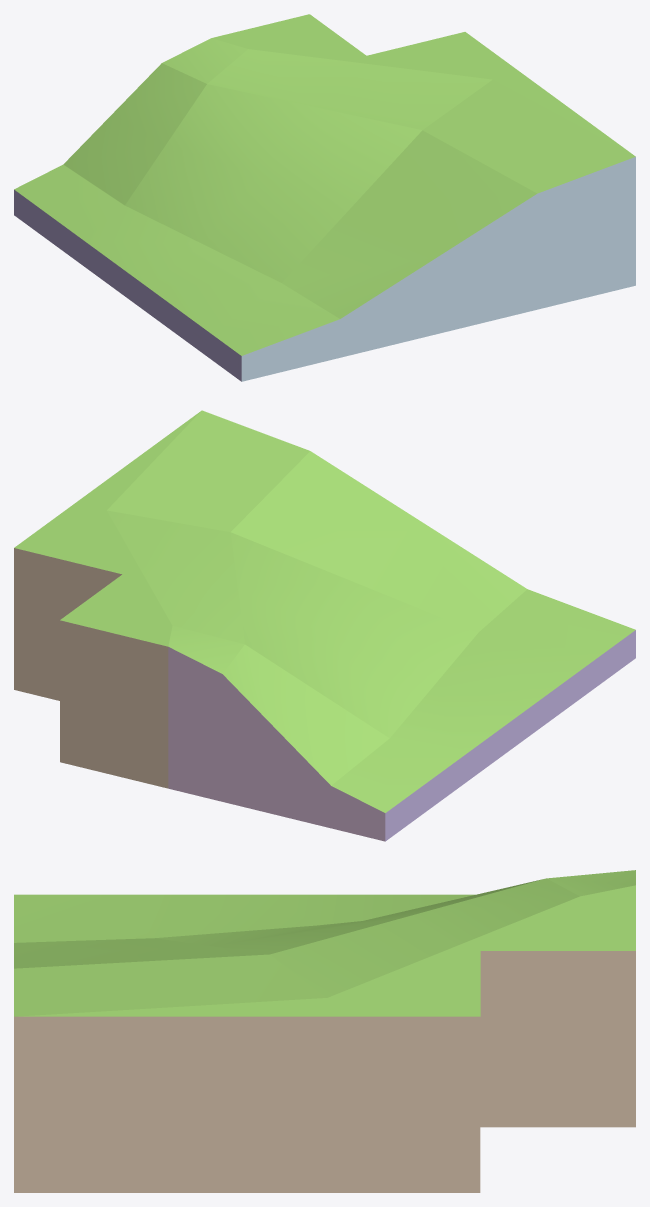
The model's file is Grass_Hill_Grade_Transition_Straight_Front_4x4.glb.
3 views of the same model, one above another, from view 1: azimuth 30°, elevation 25°; view 2: azimuth 150°, elevation 25°; view 3: azimuth 270°, elevation 25° (orthographic). The views are drawn at different scales.
Parts seen in each view (by area): view 1: Grass_Hill_Grade_Transition_Straight_Front_4x4; view 2: Grass_Hill_Grade_Transition_Straight_Front_4x4; view 3: Grass_Hill_Grade_Transition_Straight_Front_4x4.
Boxes of the visible parts, box(x1,y1,x2,y2) form: Grass_Hill_Grade_Transition_Straight_Front_4x4: box(14, 14, 635, 381); Grass_Hill_Grade_Transition_Straight_Front_4x4: box(14, 410, 635, 841); Grass_Hill_Grade_Transition_Straight_Front_4x4: box(14, 870, 635, 1192).
Size of the model in its own units: 400 by 125 by 400.
